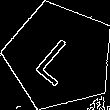L_NE: (31, 27, 88, 86)
